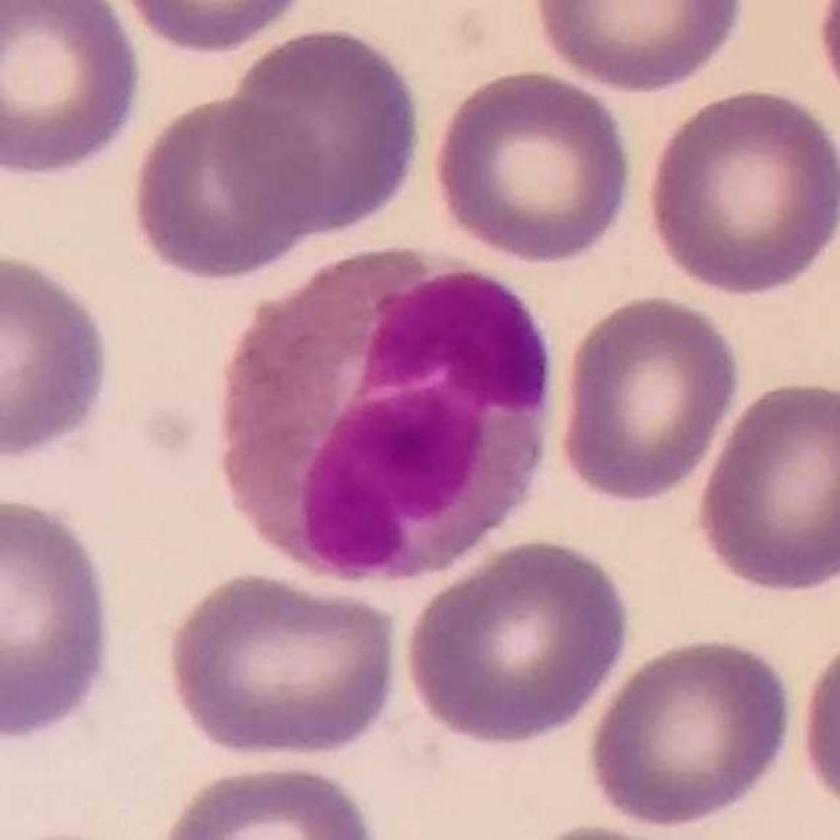eosinophil: (214, 235, 552, 583)
